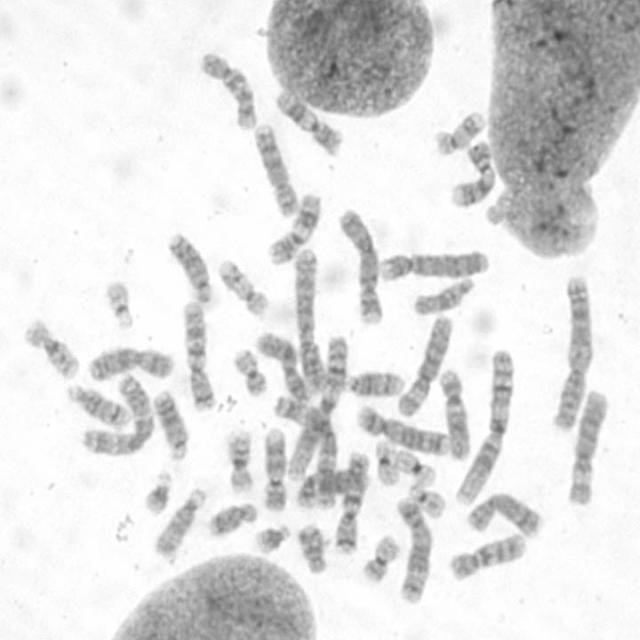A1: (282, 333, 351, 484), (451, 349, 516, 508)
A2: (551, 269, 595, 435), (290, 245, 330, 393)
A3: (271, 396, 339, 512), (80, 368, 156, 462)
B4: (334, 205, 383, 329), (374, 248, 494, 284)
B5: (356, 406, 452, 458), (394, 493, 434, 606)
C10: (197, 50, 258, 132), (448, 529, 531, 585)
C11: (274, 87, 346, 157), (264, 190, 323, 270)
C12: (436, 368, 474, 464), (294, 469, 374, 511)
C6: (397, 315, 455, 417), (564, 389, 612, 509)
C7: (180, 298, 218, 413), (332, 448, 370, 556)
C8: (250, 120, 300, 217), (460, 488, 544, 536)
C9: (443, 140, 497, 211), (260, 425, 292, 512)
D13: (164, 230, 214, 306), (150, 390, 192, 462)
D14: (64, 381, 133, 433), (344, 368, 406, 398)
D15: (153, 487, 207, 562), (412, 274, 474, 320)
E16: (22, 319, 84, 382), (223, 423, 255, 495)
E17: (216, 257, 270, 319), (433, 110, 486, 158)
E18: (205, 500, 257, 540), (293, 523, 331, 577)
F19: (391, 446, 439, 486), (371, 436, 401, 488)
F20: (359, 534, 399, 586), (230, 348, 270, 398)
G21: (246, 518, 294, 562), (140, 466, 174, 517)
G22: (102, 276, 140, 334), (404, 483, 450, 520)
X: (254, 331, 311, 403), (87, 345, 177, 384)
